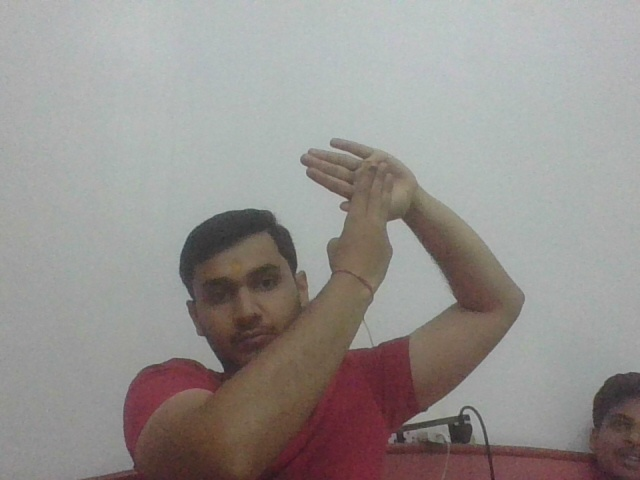M: (298, 134, 417, 261)
